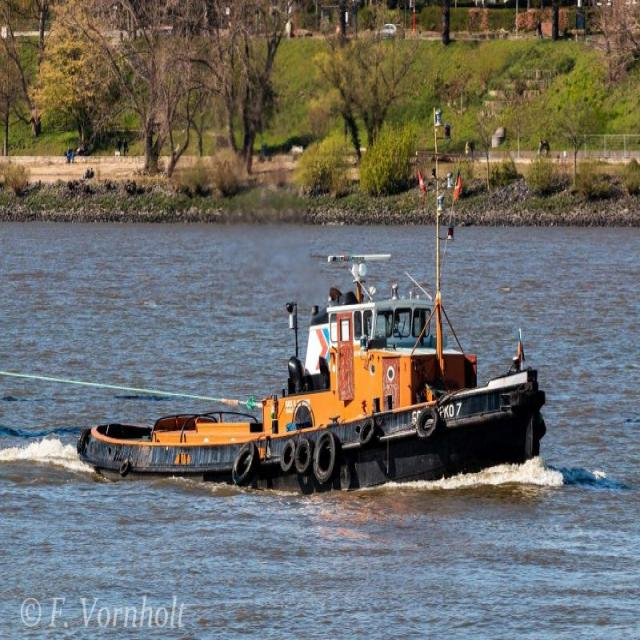tugboat: (72, 247, 553, 505)
